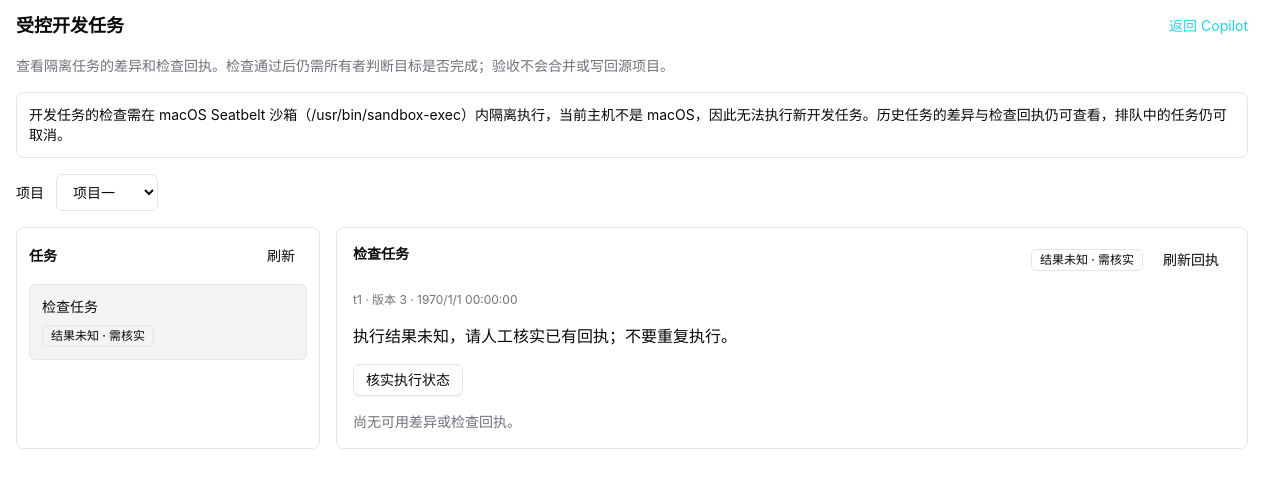
explains a stale reconciliation revision and refreshes facts without resubmitting
Step 1. Click the button "核实执行状态" → click(408, 380), box left=353, top=364, right=463, bottom=396
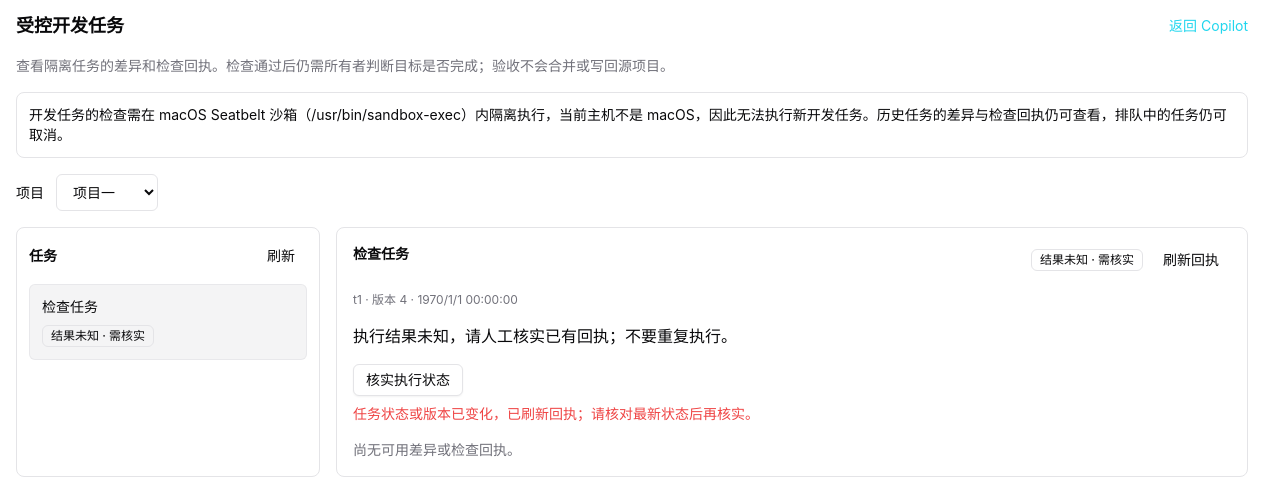
Now the text "任务状态或版本已变化，已刷新回执；请核对最新状态后再核实。" is shown, box left=353, top=405, right=759, bottom=422
Now the text "t1 · 版本 4 · 1970/1/1 00:00:00" is shown, box left=353, top=292, right=518, bottom=307
